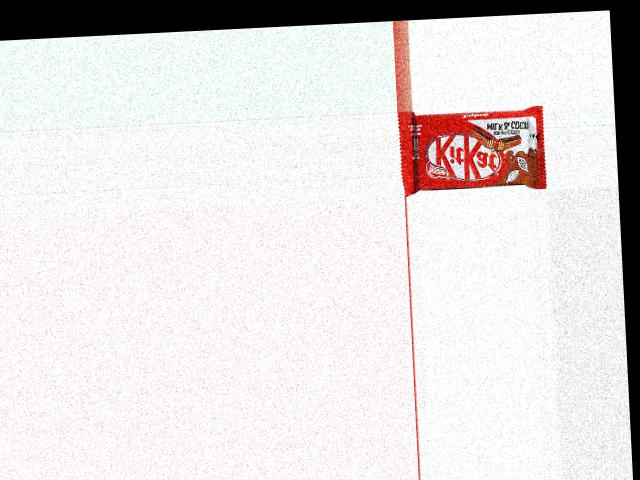chocolate: (398, 104, 548, 196)
